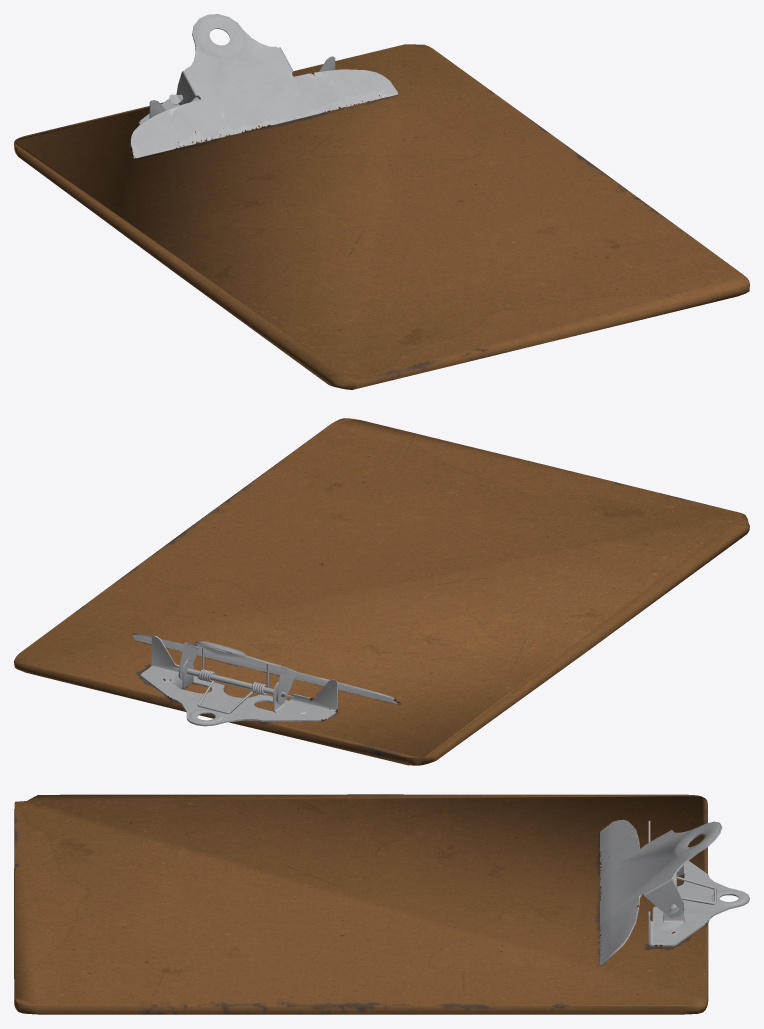
Rendered from clipboard.glb.
3 renders of one model, top to bottom at view 1: azimuth 30°, elevation 25°; view 2: azimuth 150°, elevation 25°; view 3: azimuth 270°, elevation 25°, orthographic. The views are drawn at different scales.
Visible parts, largest first — view 1: clipboard; view 2: clipboard; view 3: clipboard.
Part boxes in pixels (x1,y1,x2,y2): clipboard: (14, 14, 749, 389); clipboard: (14, 418, 749, 765); clipboard: (14, 794, 749, 1014).
Size of the model in its own units: 0.2285 by 0.042 by 0.3365.
1 material, 1 textured.
